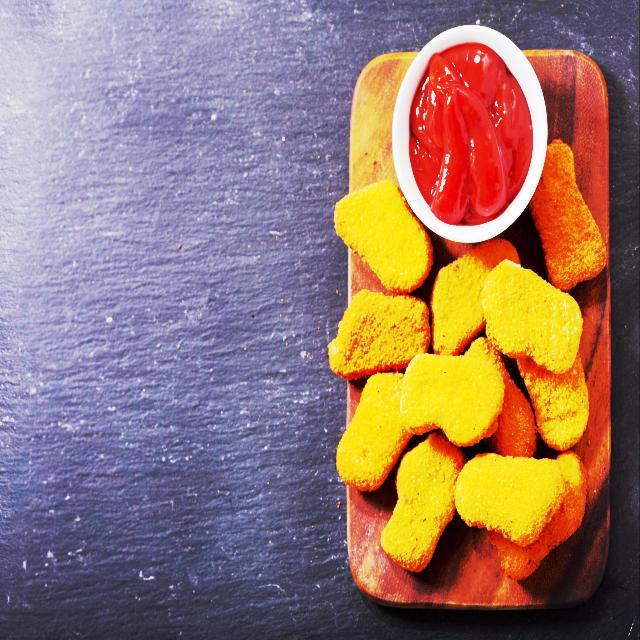chicken_nuggets: (334, 137, 606, 574)
ketchup: (406, 39, 537, 229)
